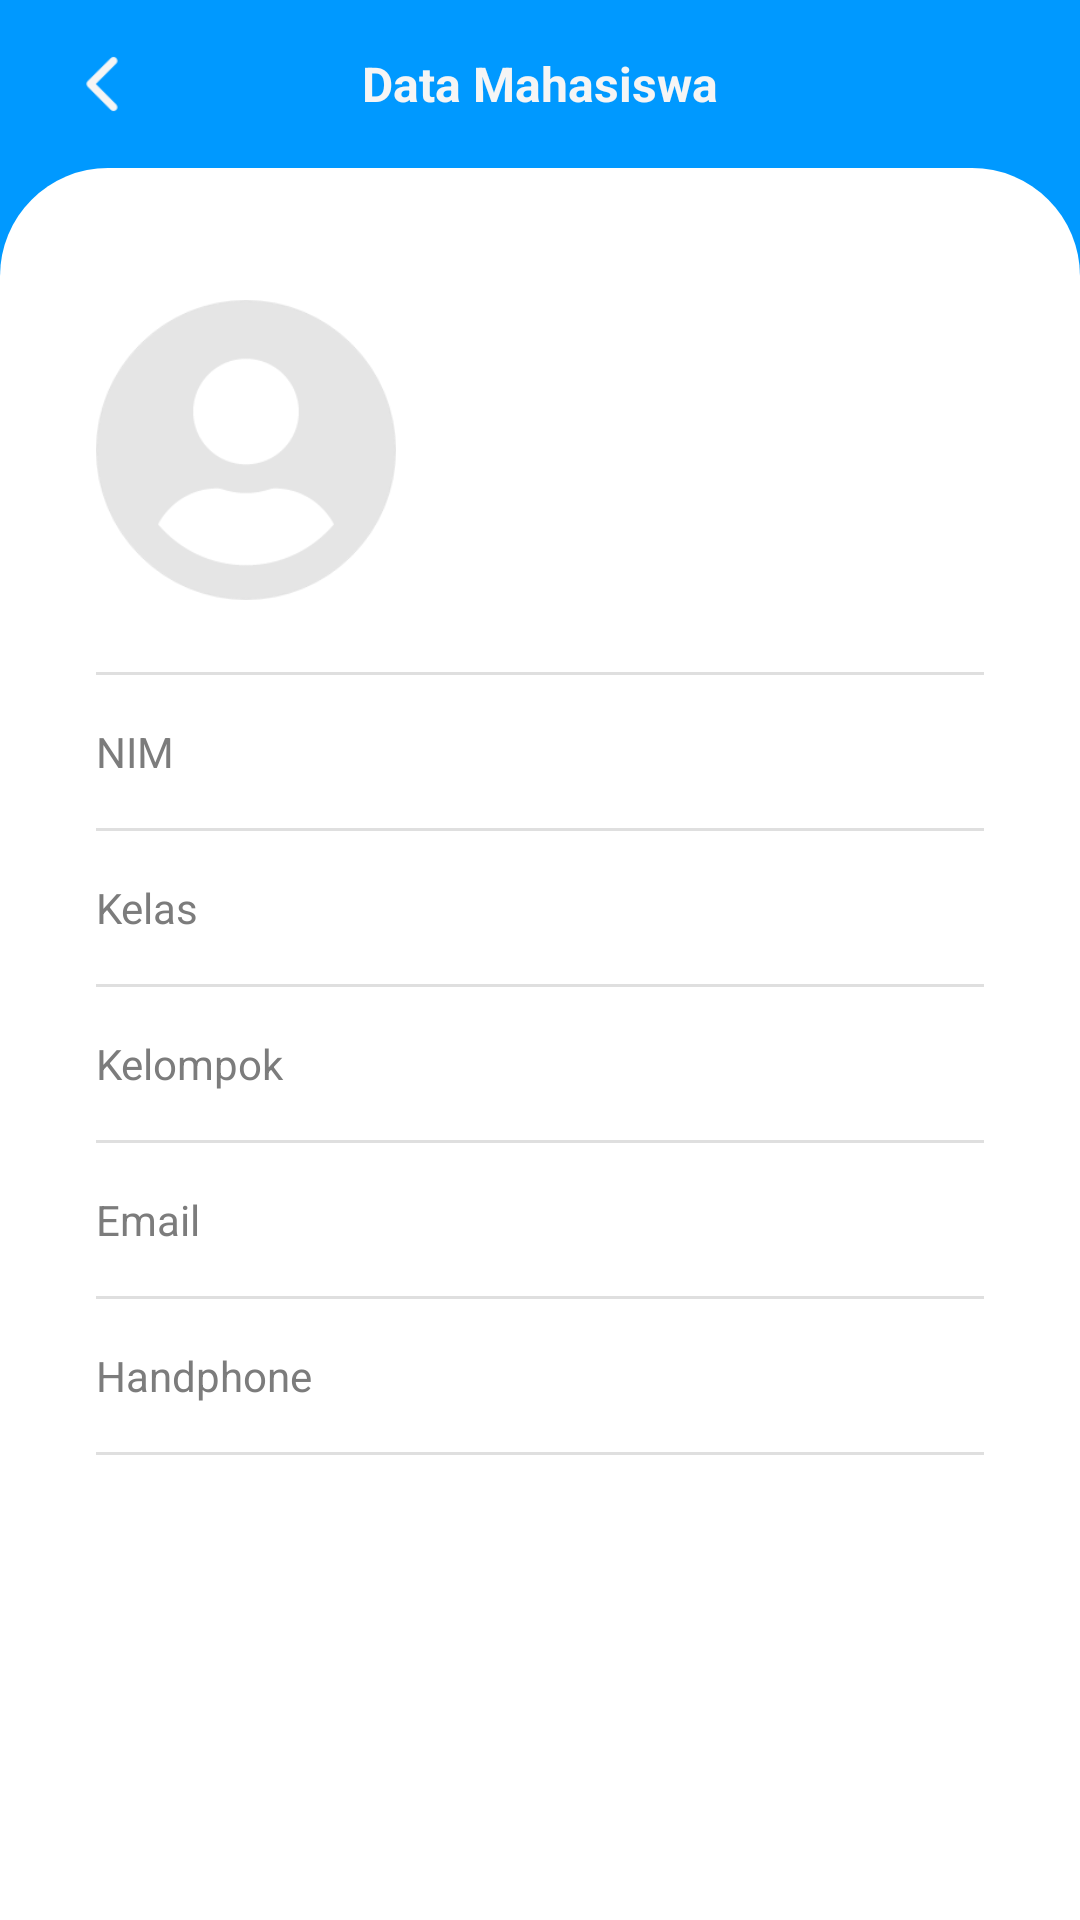

Locate icon controls on the screen. Image size 1080px x 1920px, boxes as (x1, y1, x2, y2).
arrow back: (86, 57, 118, 111)
user circle: (96, 300, 396, 600)
